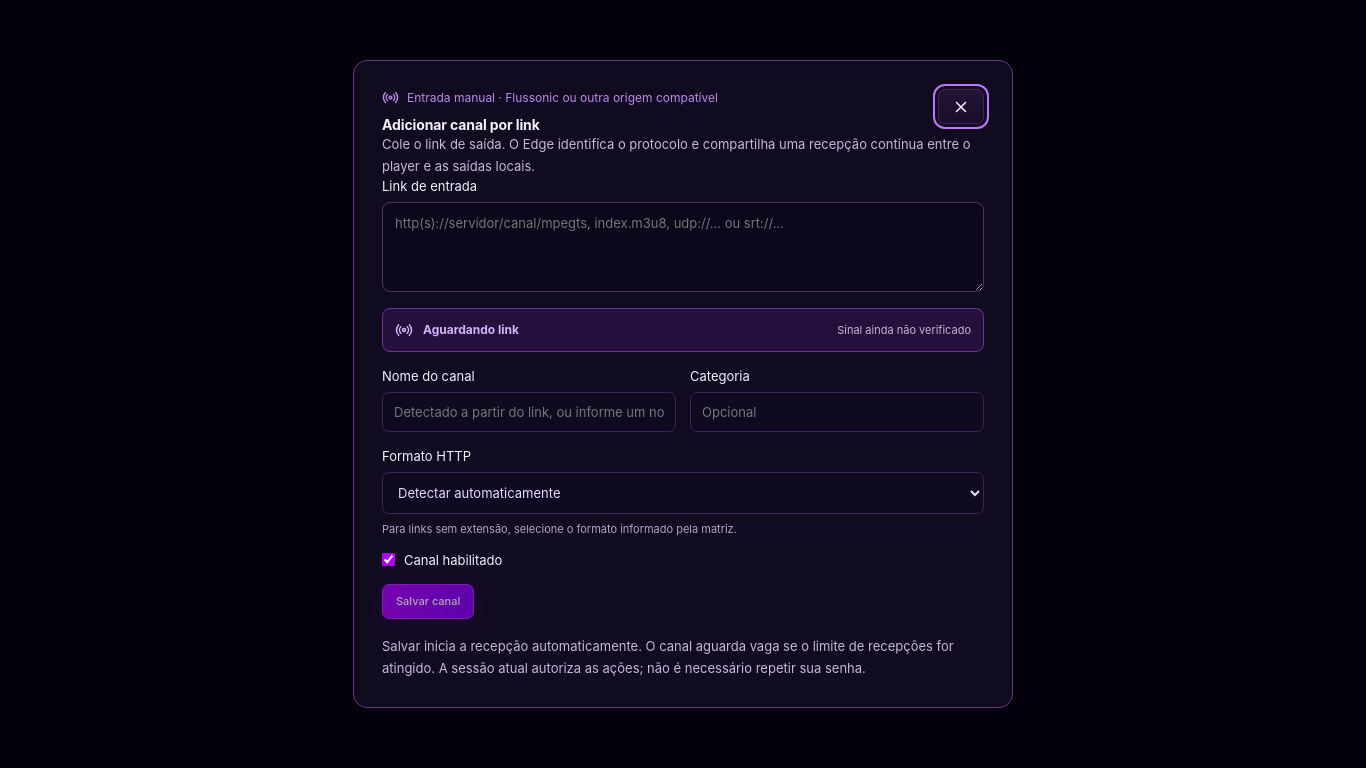
Test: requires an explicit interface and local IP for UDP
Replace the text in the text box labelled "Link de entrada" with "udp://239.77.0.1:12000" at (683, 246), box [382, 202, 984, 292]
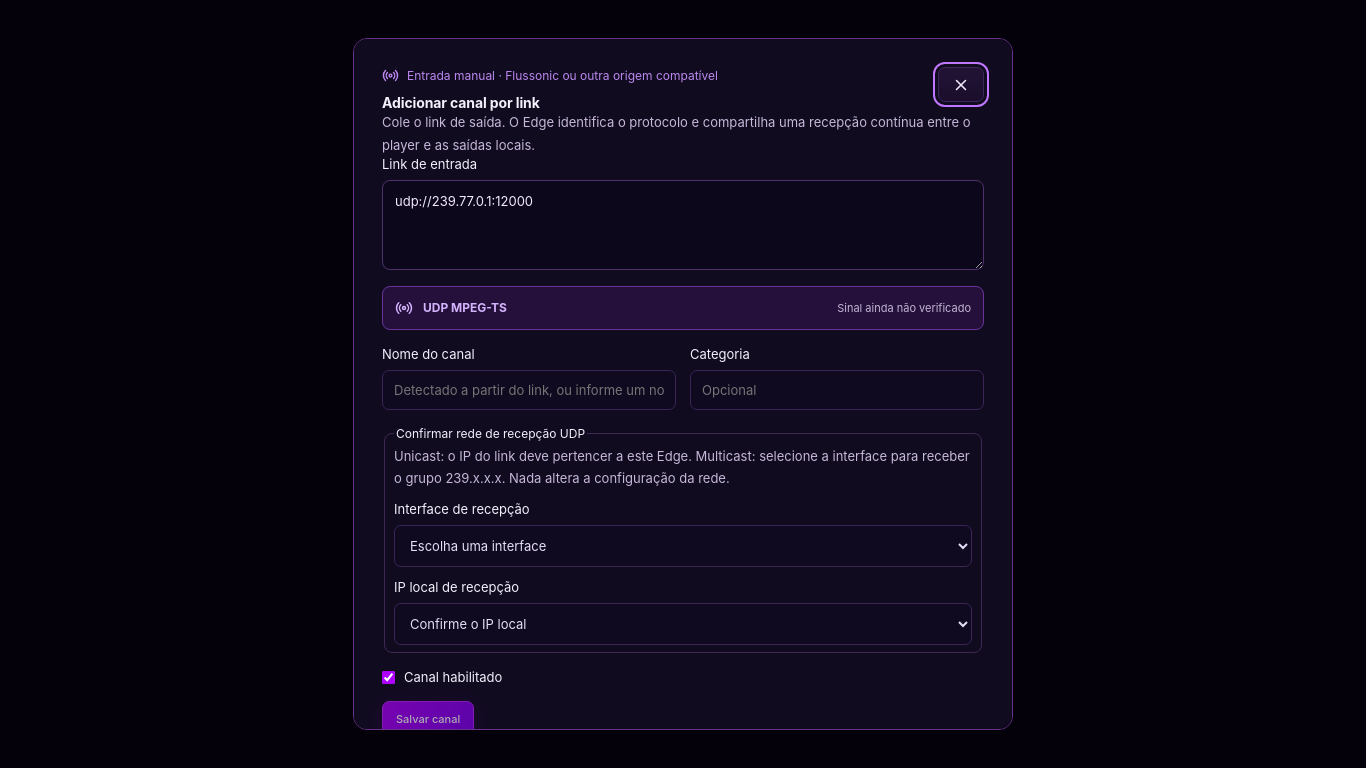
Expected: the button "Salvar canal" is disabled, [382, 702, 474, 730]
Expected: the dropdown labelled "Interface de recepção" shows "Escolha uma interface"
Expected: the dropdown labelled "IP local de recepção" shows "Confirme o IP local", [394, 603, 972, 645]
Select "synthetic0 · 10.77.0.2" in the dropdown labelled "Interface de recepção" at (683, 546), box [394, 525, 972, 567]
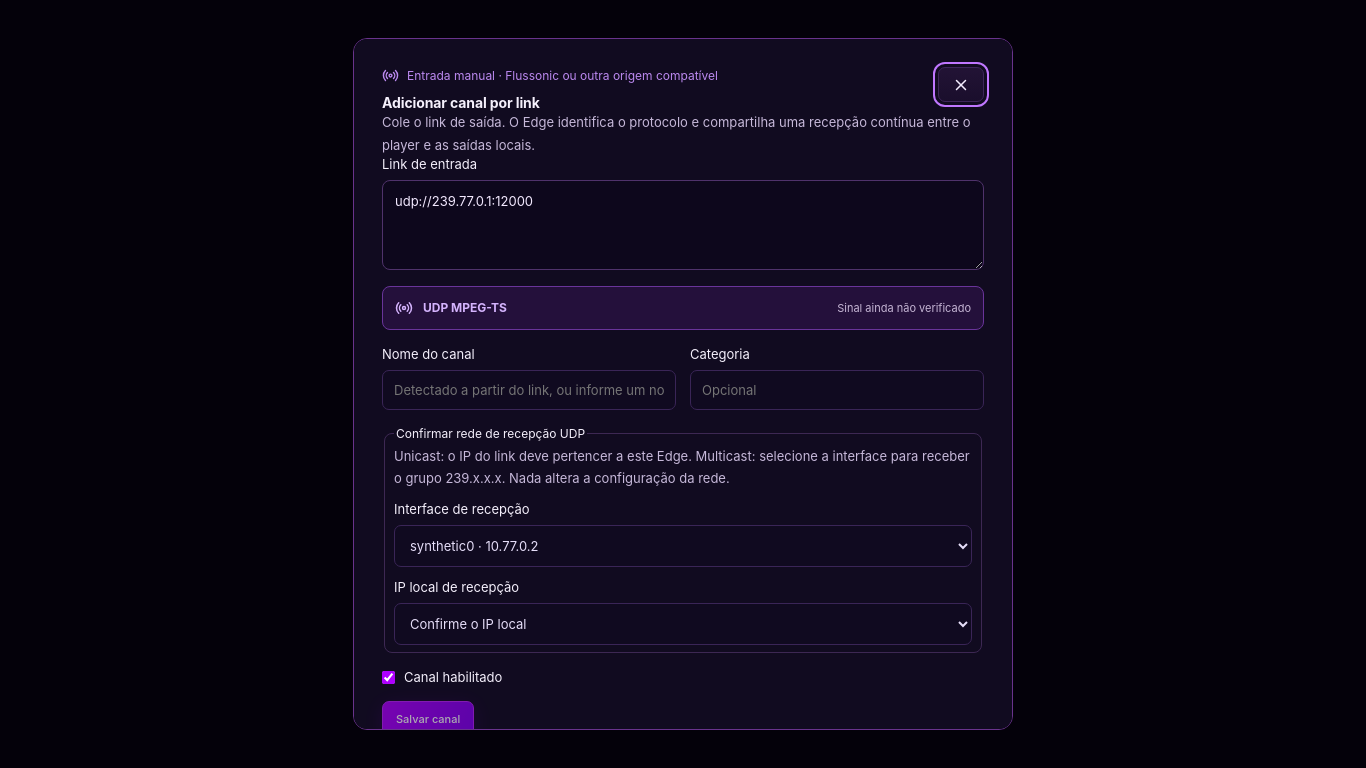
Select "10.77.0.2" in the dropdown labelled "IP local de recepção" at (683, 624), box [394, 603, 972, 645]
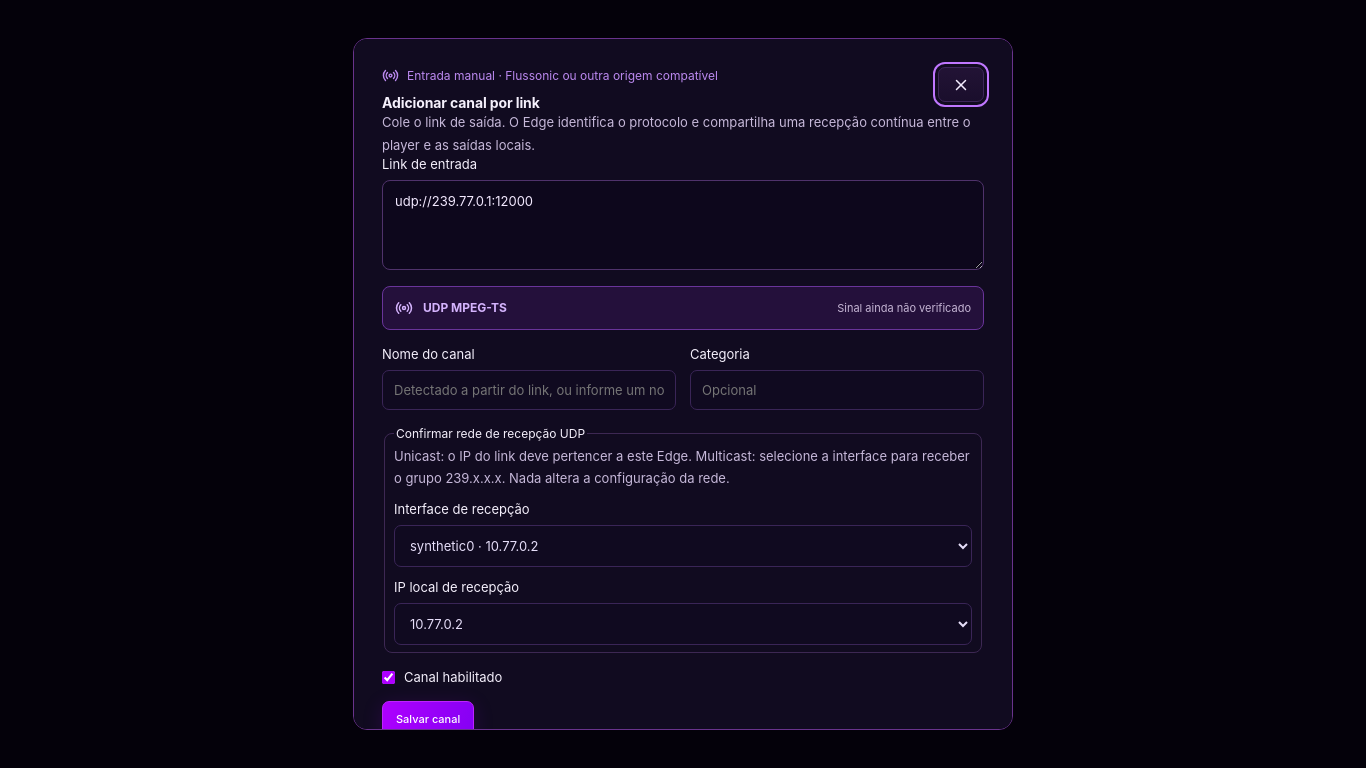
Expected: the button "Salvar canal" is enabled, [382, 702, 474, 730]
